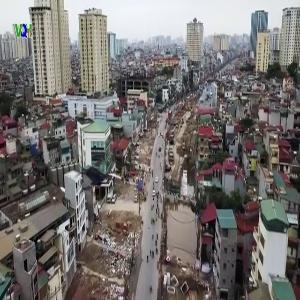drone: (74, 152, 131, 209)
